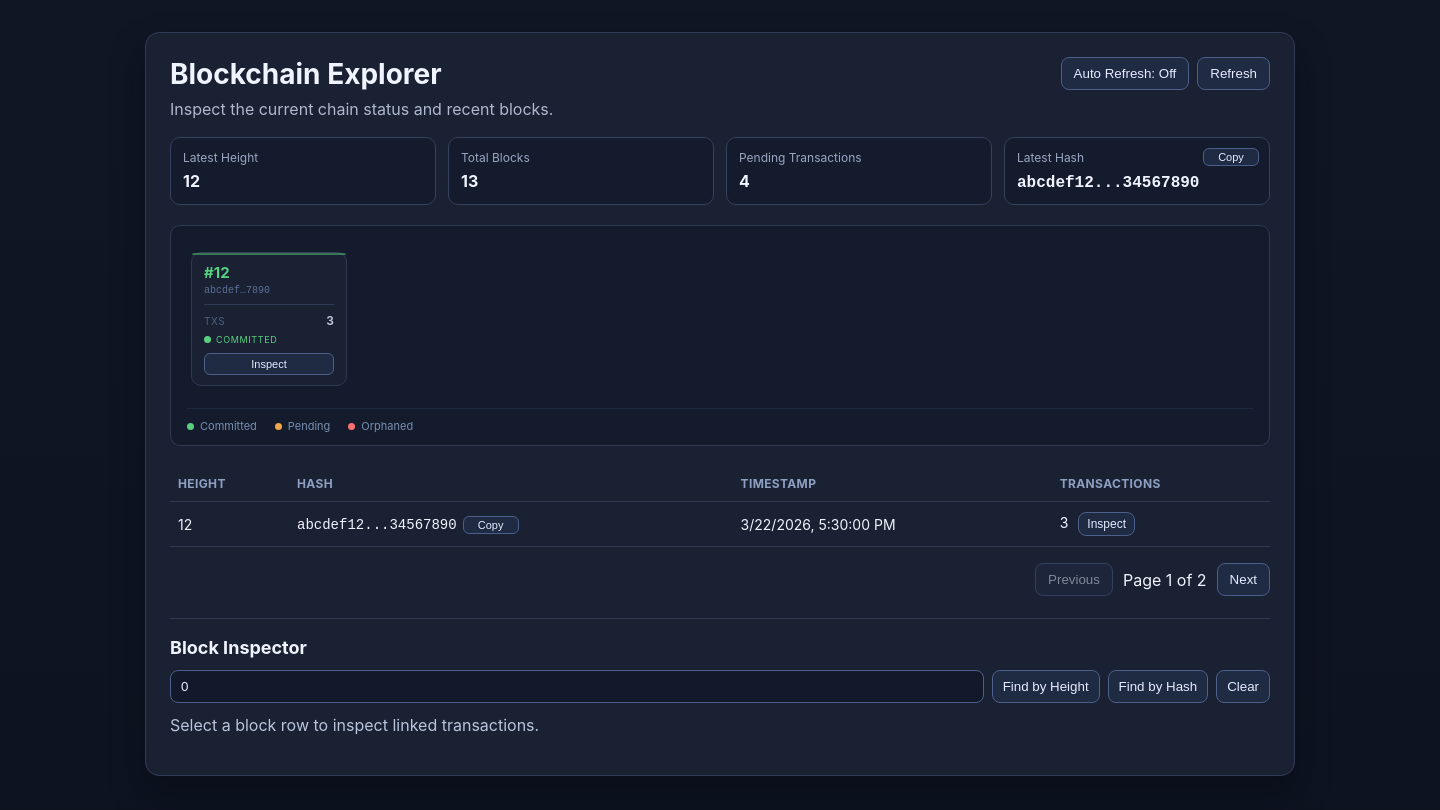
Test: copies full block hash from row action
Expected: the text "Page 1 of 2" is shown, [1123, 570, 1207, 590]
Click the button named "Copy block hash at height 12" at (491, 524), box [463, 516, 519, 534]
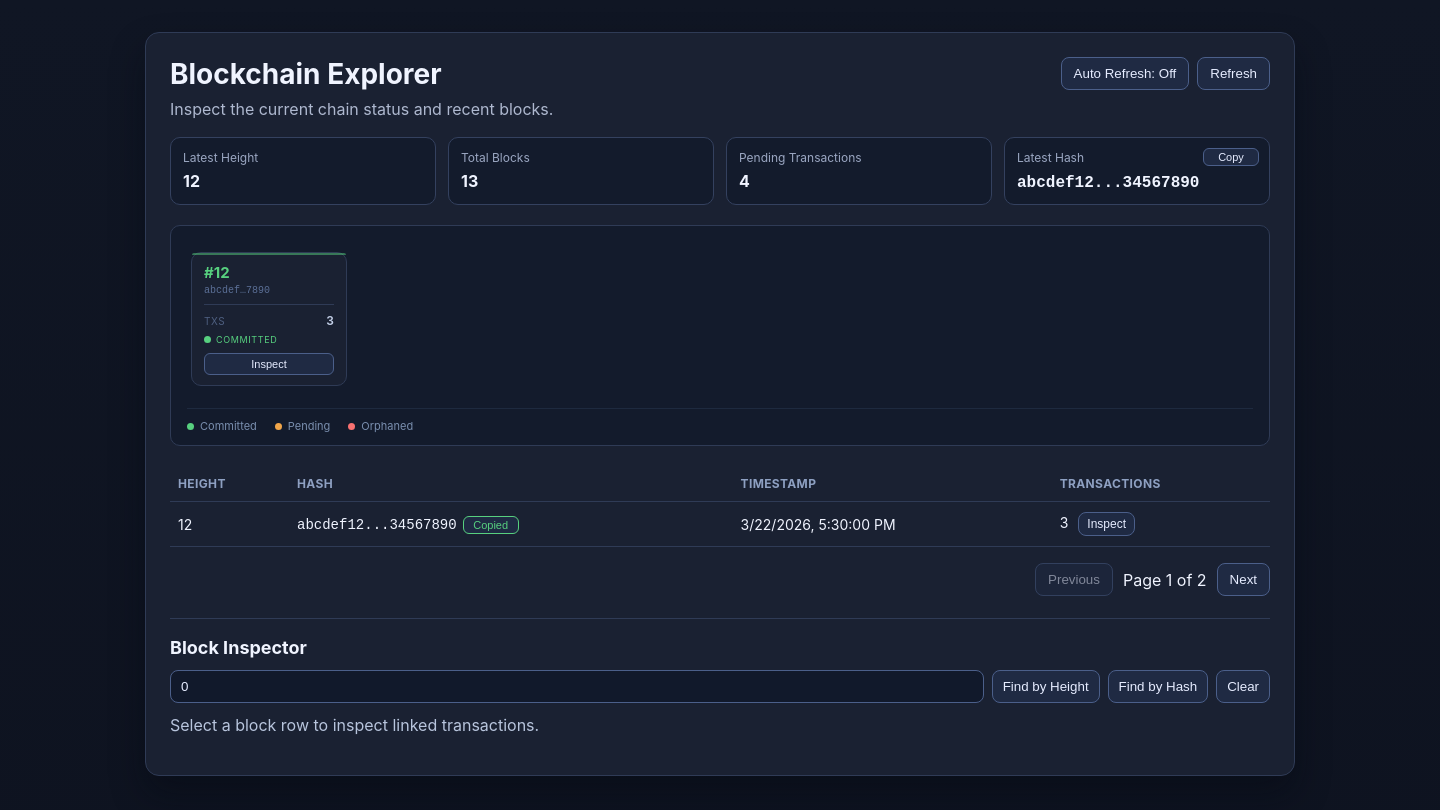
Expected: the button named "Copy block hash at height 12" reads "Copied", [463, 516, 519, 534]
